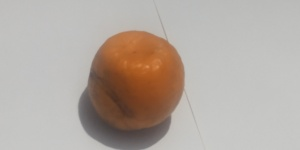BAD: (85, 28, 184, 137)
